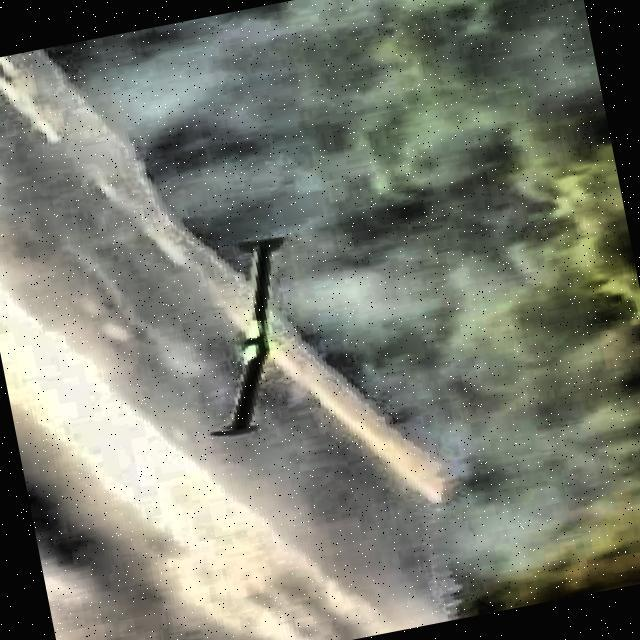iha: (171, 228, 323, 444)
